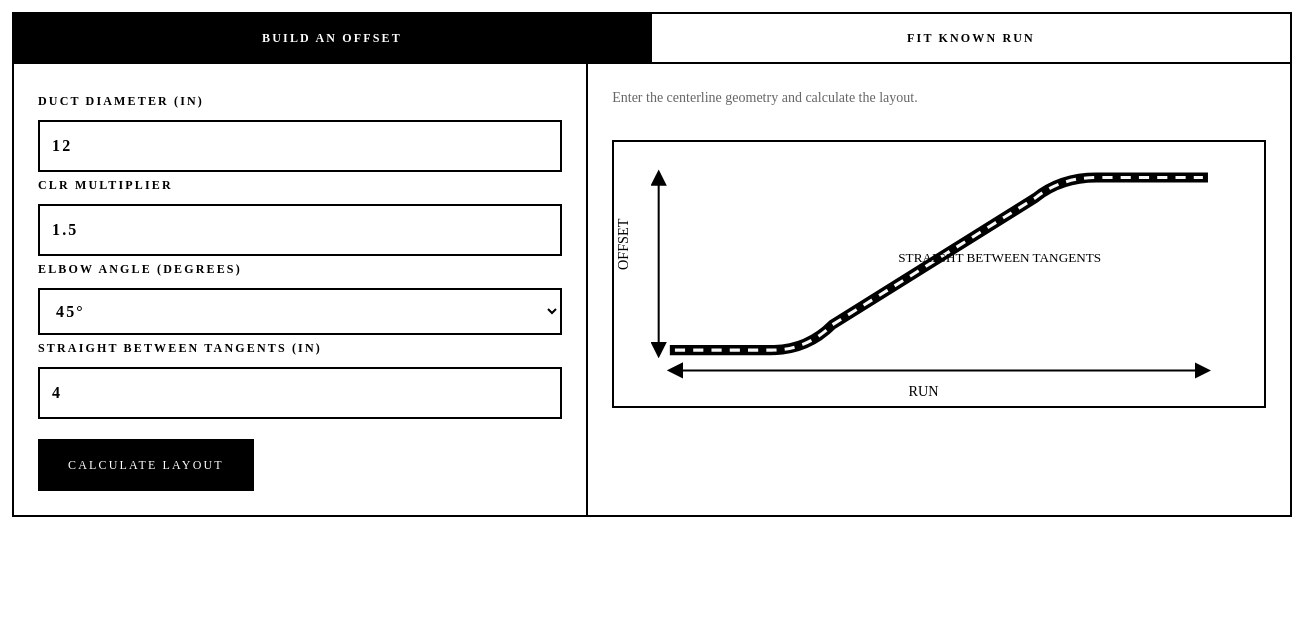
Test: OffsetCalculator › solves angle and spool length inside a known run
The image size is (1304, 624).
Click the button "Fit known run".
click(971, 38)  # box [652, 14, 1290, 62]
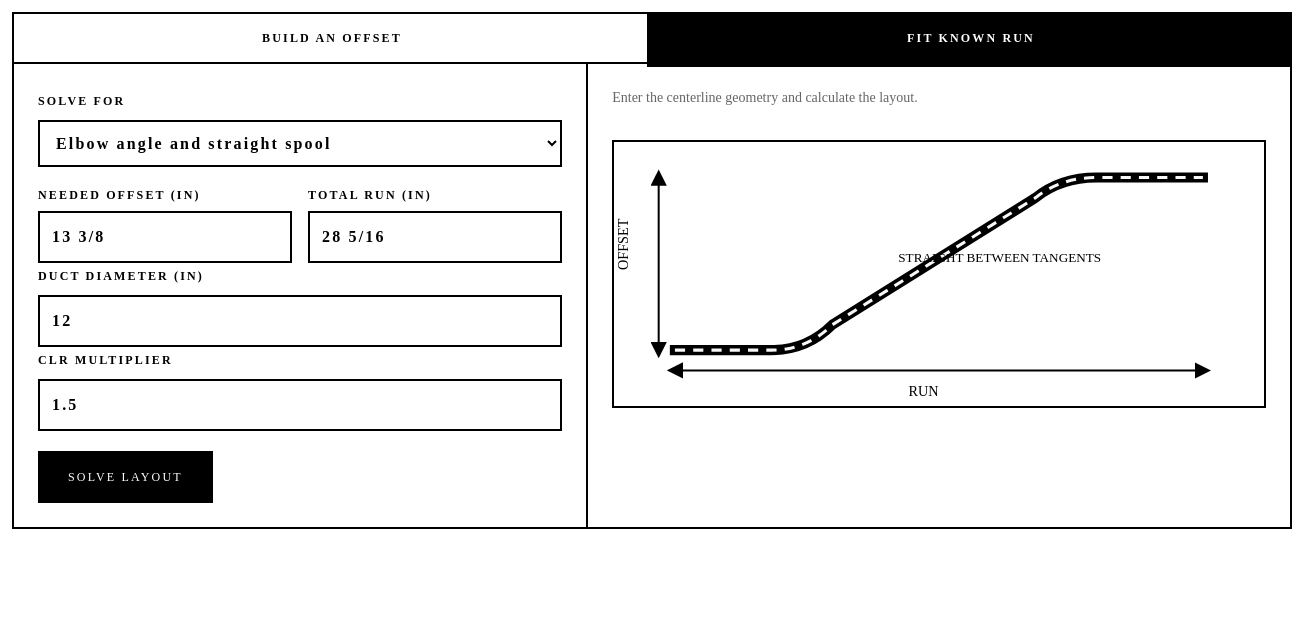
Replace the text in the field labelled "Needed offset (in)" with "13.372583002030478" at (165, 237), box [38, 211, 292, 263]
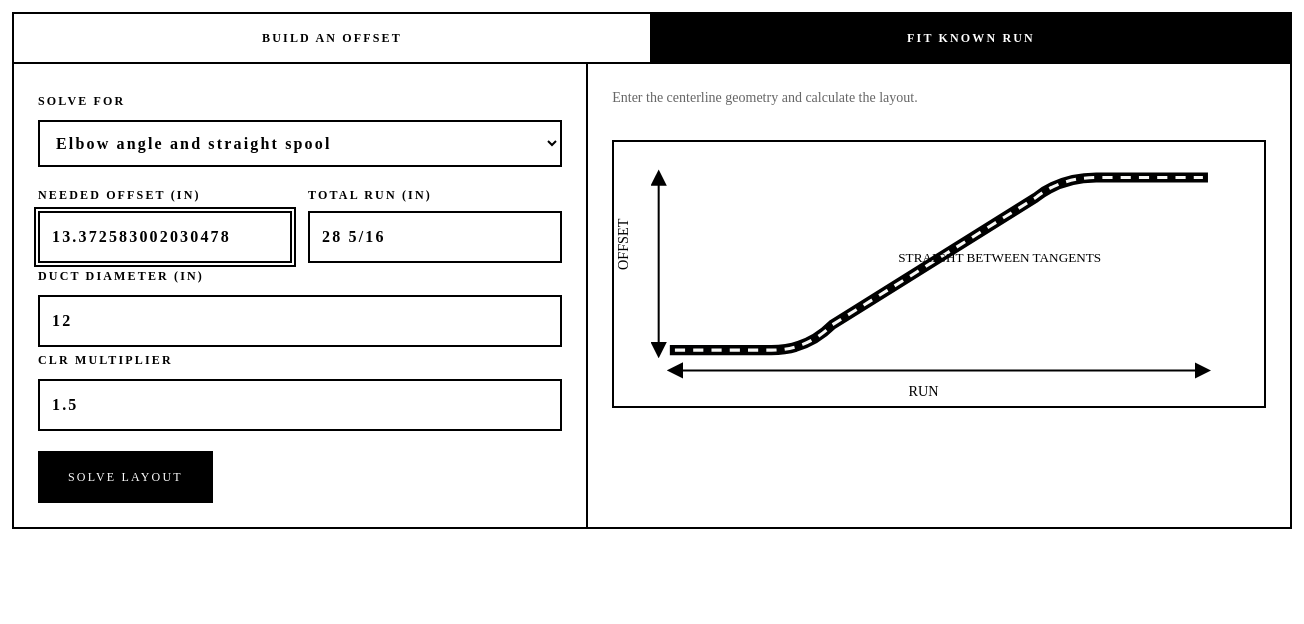
Replace the text in the field labelled "Total run (in)" with "28.284271247461906" at (435, 237), box [308, 211, 562, 263]
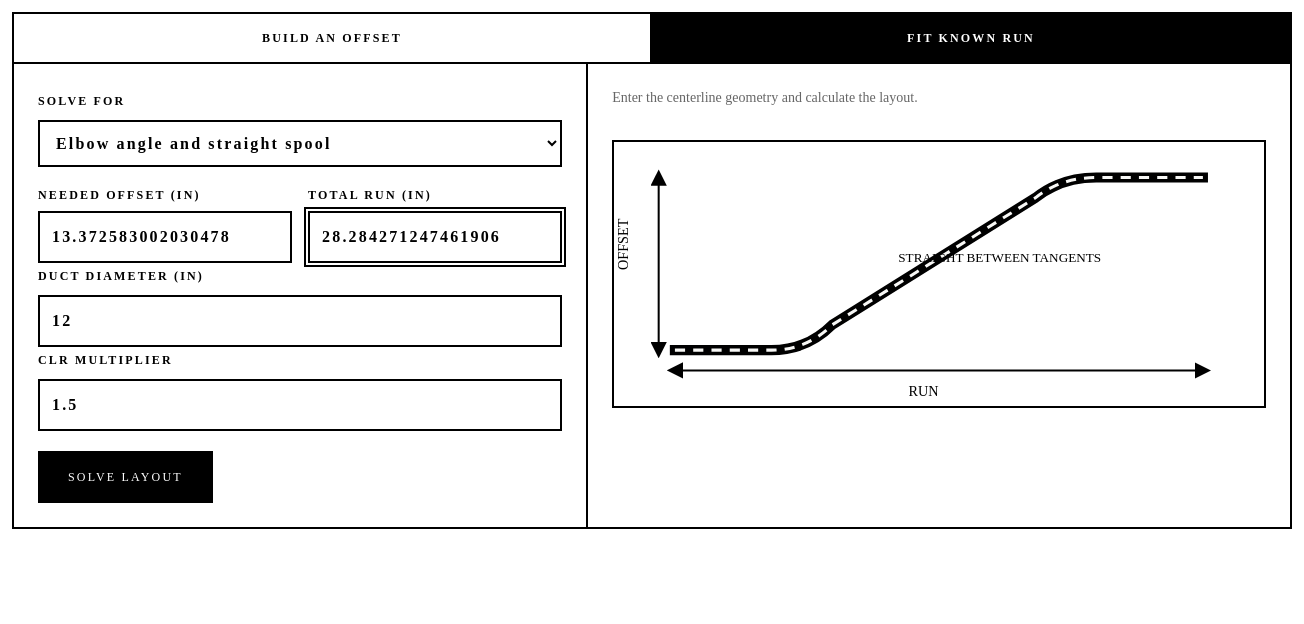
Click the button "Solve layout".
click(125, 477)  # box [38, 451, 213, 503]
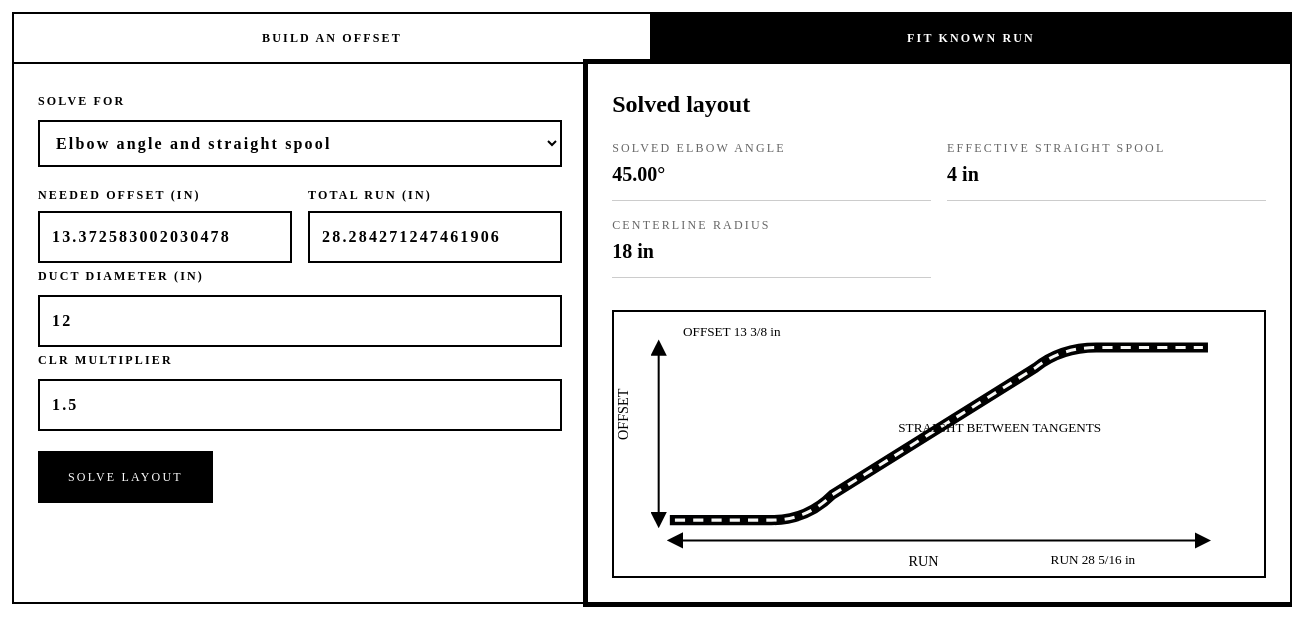
Now the text "45.00°" is shown, box [612, 163, 665, 185]
Now the text "4 in" is shown, box [947, 163, 979, 185]
